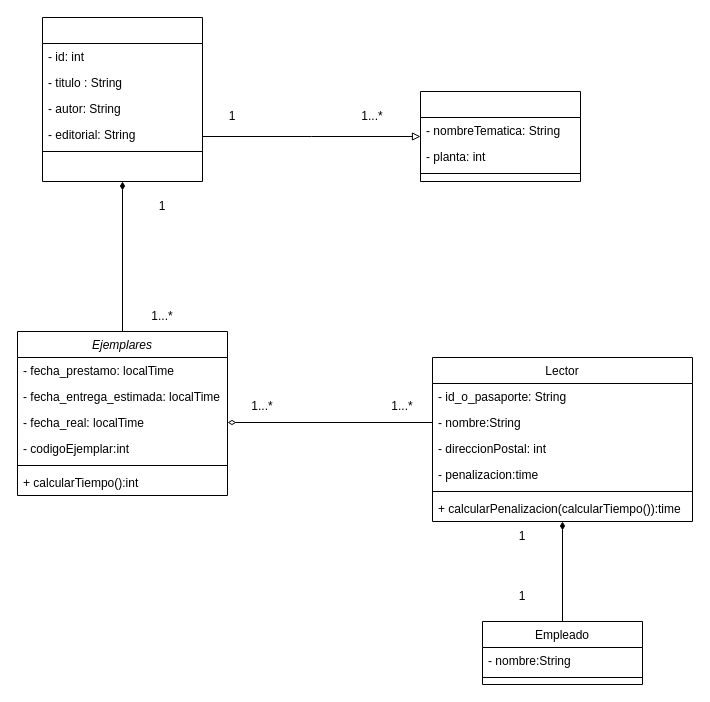
Image size: 710x702. Some labels were removed from this diagram. The shapes that lost their labels are listed below. From the top down, each one's box as (x1, y1, x2, y2) in pixels, then its label:
(42, 16, 202, 182): Libros
(420, 90, 580, 182): Temática
